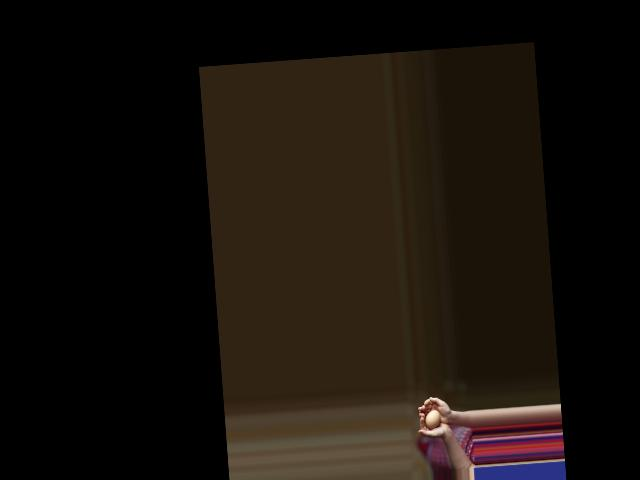egg: (424, 410, 441, 429)
